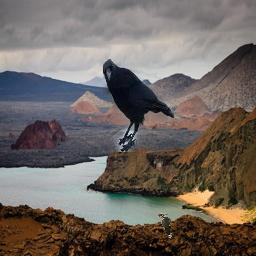Crow: (104, 60, 175, 153)
Woodpecker: (158, 214, 173, 239)
